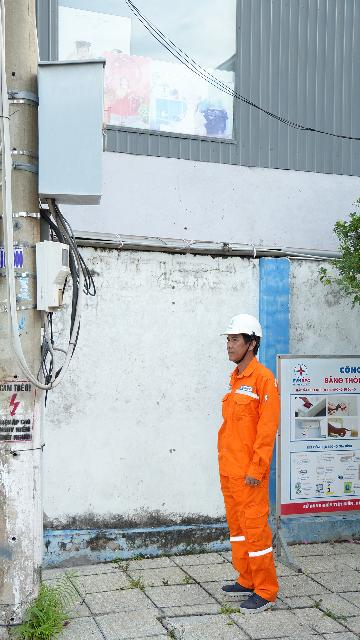helmet: (219, 310, 267, 347), (234, 587, 278, 620), (221, 569, 257, 601)
